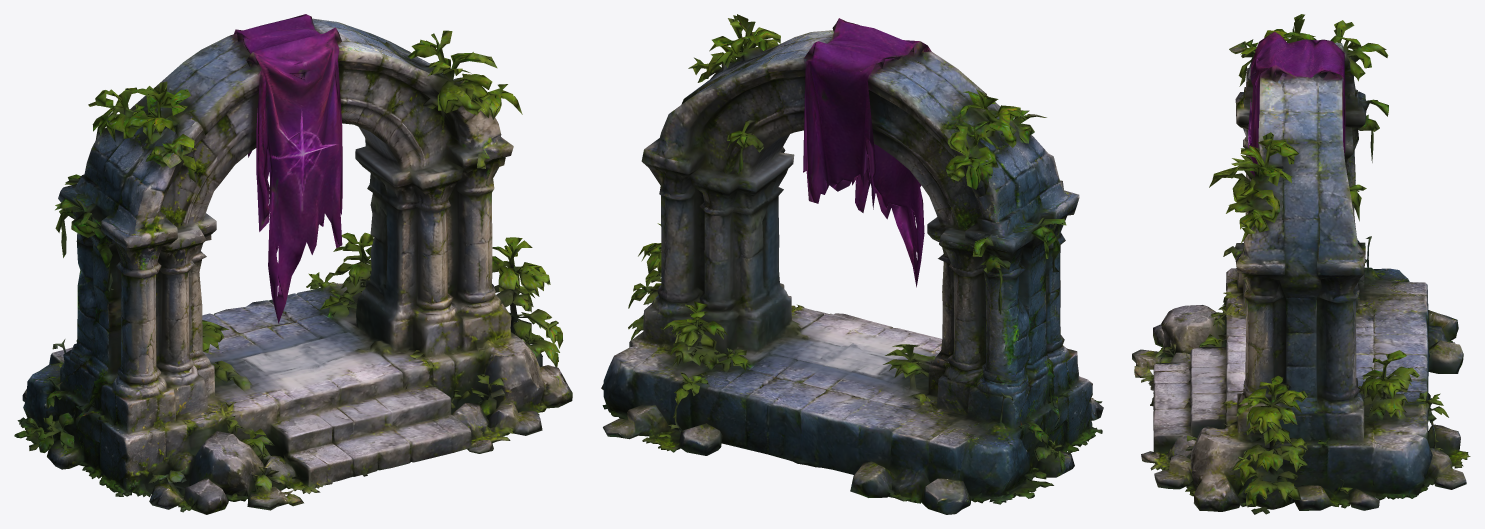
File: gen_arch.glb
3 renders of one model, left to right at view 1: azimuth 30°, elevation 25°; view 2: azimuth 150°, elevation 25°; view 3: azimuth 270°, elevation 25°, orthographic. The views are drawn at different scales.
Parts seen in each view (by area): view 1: tripo_node_930b2cfc-bf27-4ac2-83c4-ef7c16afa87b; view 2: tripo_node_930b2cfc-bf27-4ac2-83c4-ef7c16afa87b; view 3: tripo_node_930b2cfc-bf27-4ac2-83c4-ef7c16afa87b.
Part boxes in pixels (x1=…): tripo_node_930b2cfc-bf27-4ac2-83c4-ef7c16afa87b: x1=14, y1=14, x2=572, y2=514; tripo_node_930b2cfc-bf27-4ac2-83c4-ef7c16afa87b: x1=601, y1=14, x2=1103, y2=514; tripo_node_930b2cfc-bf27-4ac2-83c4-ef7c16afa87b: x1=1132, y1=14, x2=1470, y2=514.
Bounding box in the file's own units: 0.9739 × 0.7627 × 0.6491.
1 material, 1 textured.
